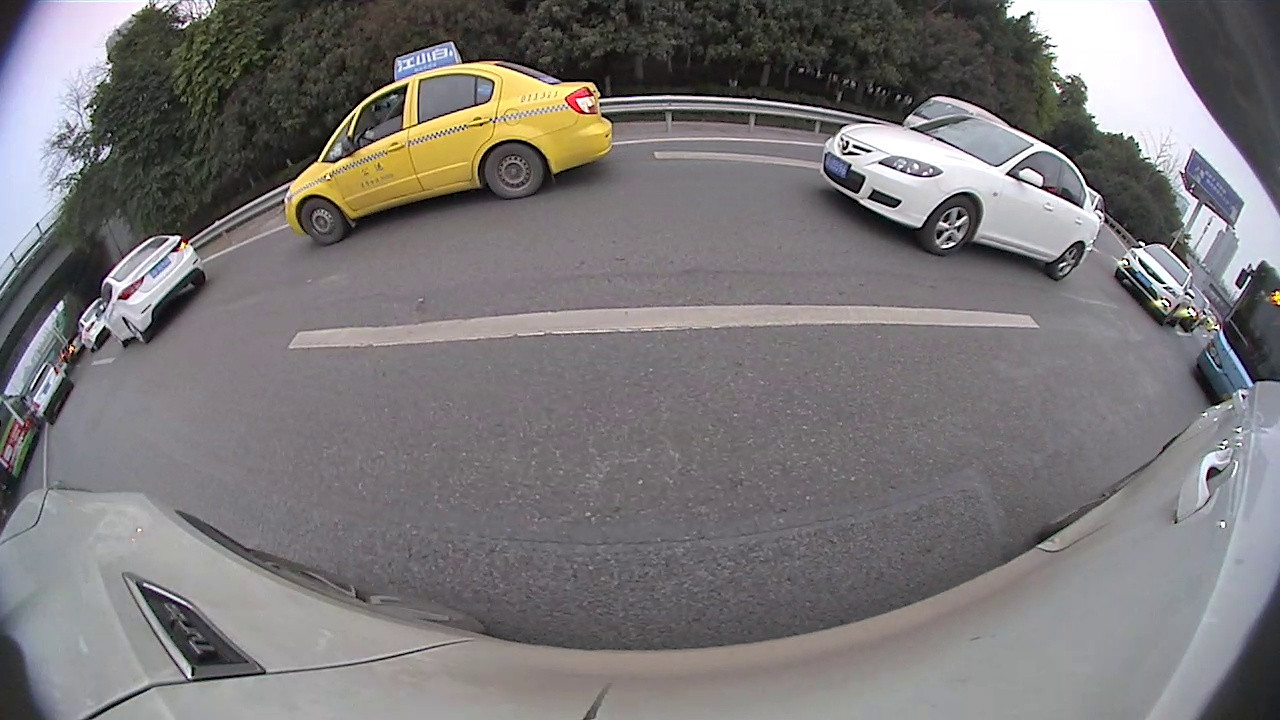bus: (1193, 256, 1279, 398)
car: (280, 40, 615, 247), (817, 114, 1102, 281), (93, 233, 211, 348), (1113, 239, 1197, 327), (902, 95, 1012, 148), (22, 357, 79, 430)
front: (922, 194, 978, 260), (296, 196, 347, 247)
rear: (480, 140, 547, 202), (1046, 241, 1084, 283), (124, 317, 147, 345)
